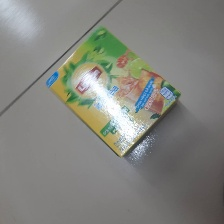LipTon: (46, 26, 183, 157)
